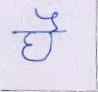ai_matra: (34, 9, 63, 30)
